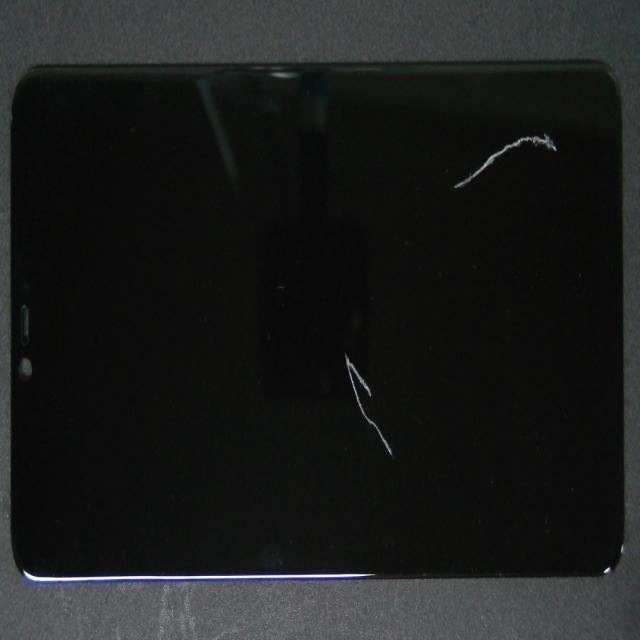scratch: (157, 109, 514, 567), (346, 50, 640, 214)
